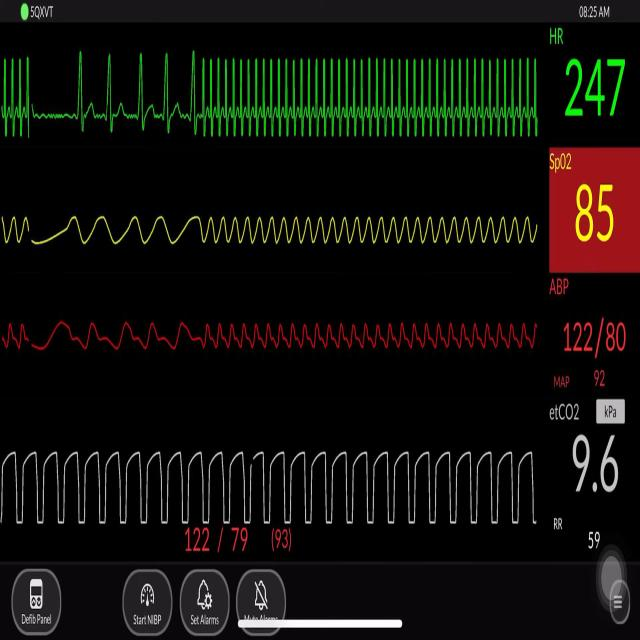danger: (190, 40, 545, 155), (0, 40, 32, 155)
